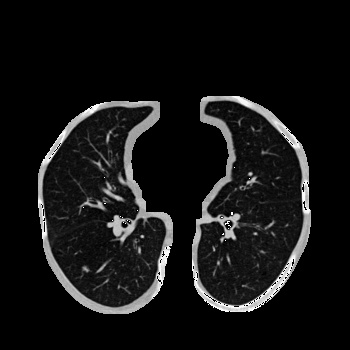PN: (82, 266, 88, 272)
